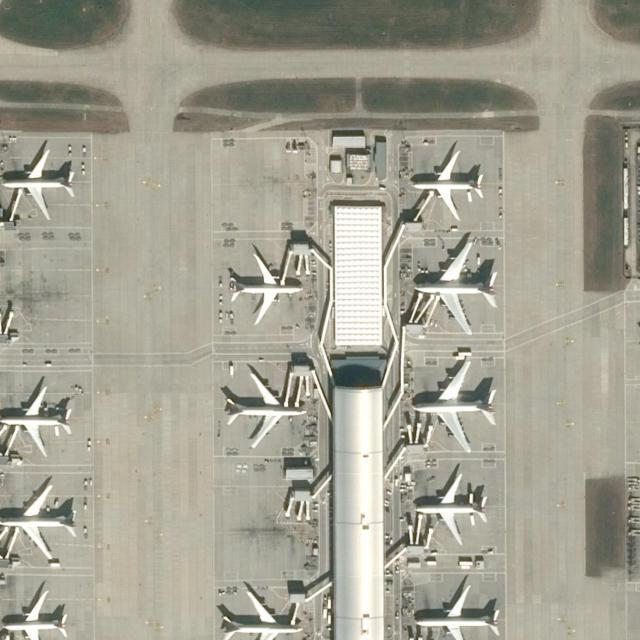Aircraft: (413, 239, 499, 332), (411, 361, 501, 449), (219, 369, 307, 445), (2, 480, 80, 561), (3, 142, 77, 220), (414, 469, 492, 542), (411, 579, 499, 640), (1, 381, 73, 455), (411, 147, 485, 219), (226, 253, 302, 321), (214, 586, 302, 640), (4, 589, 71, 640)
